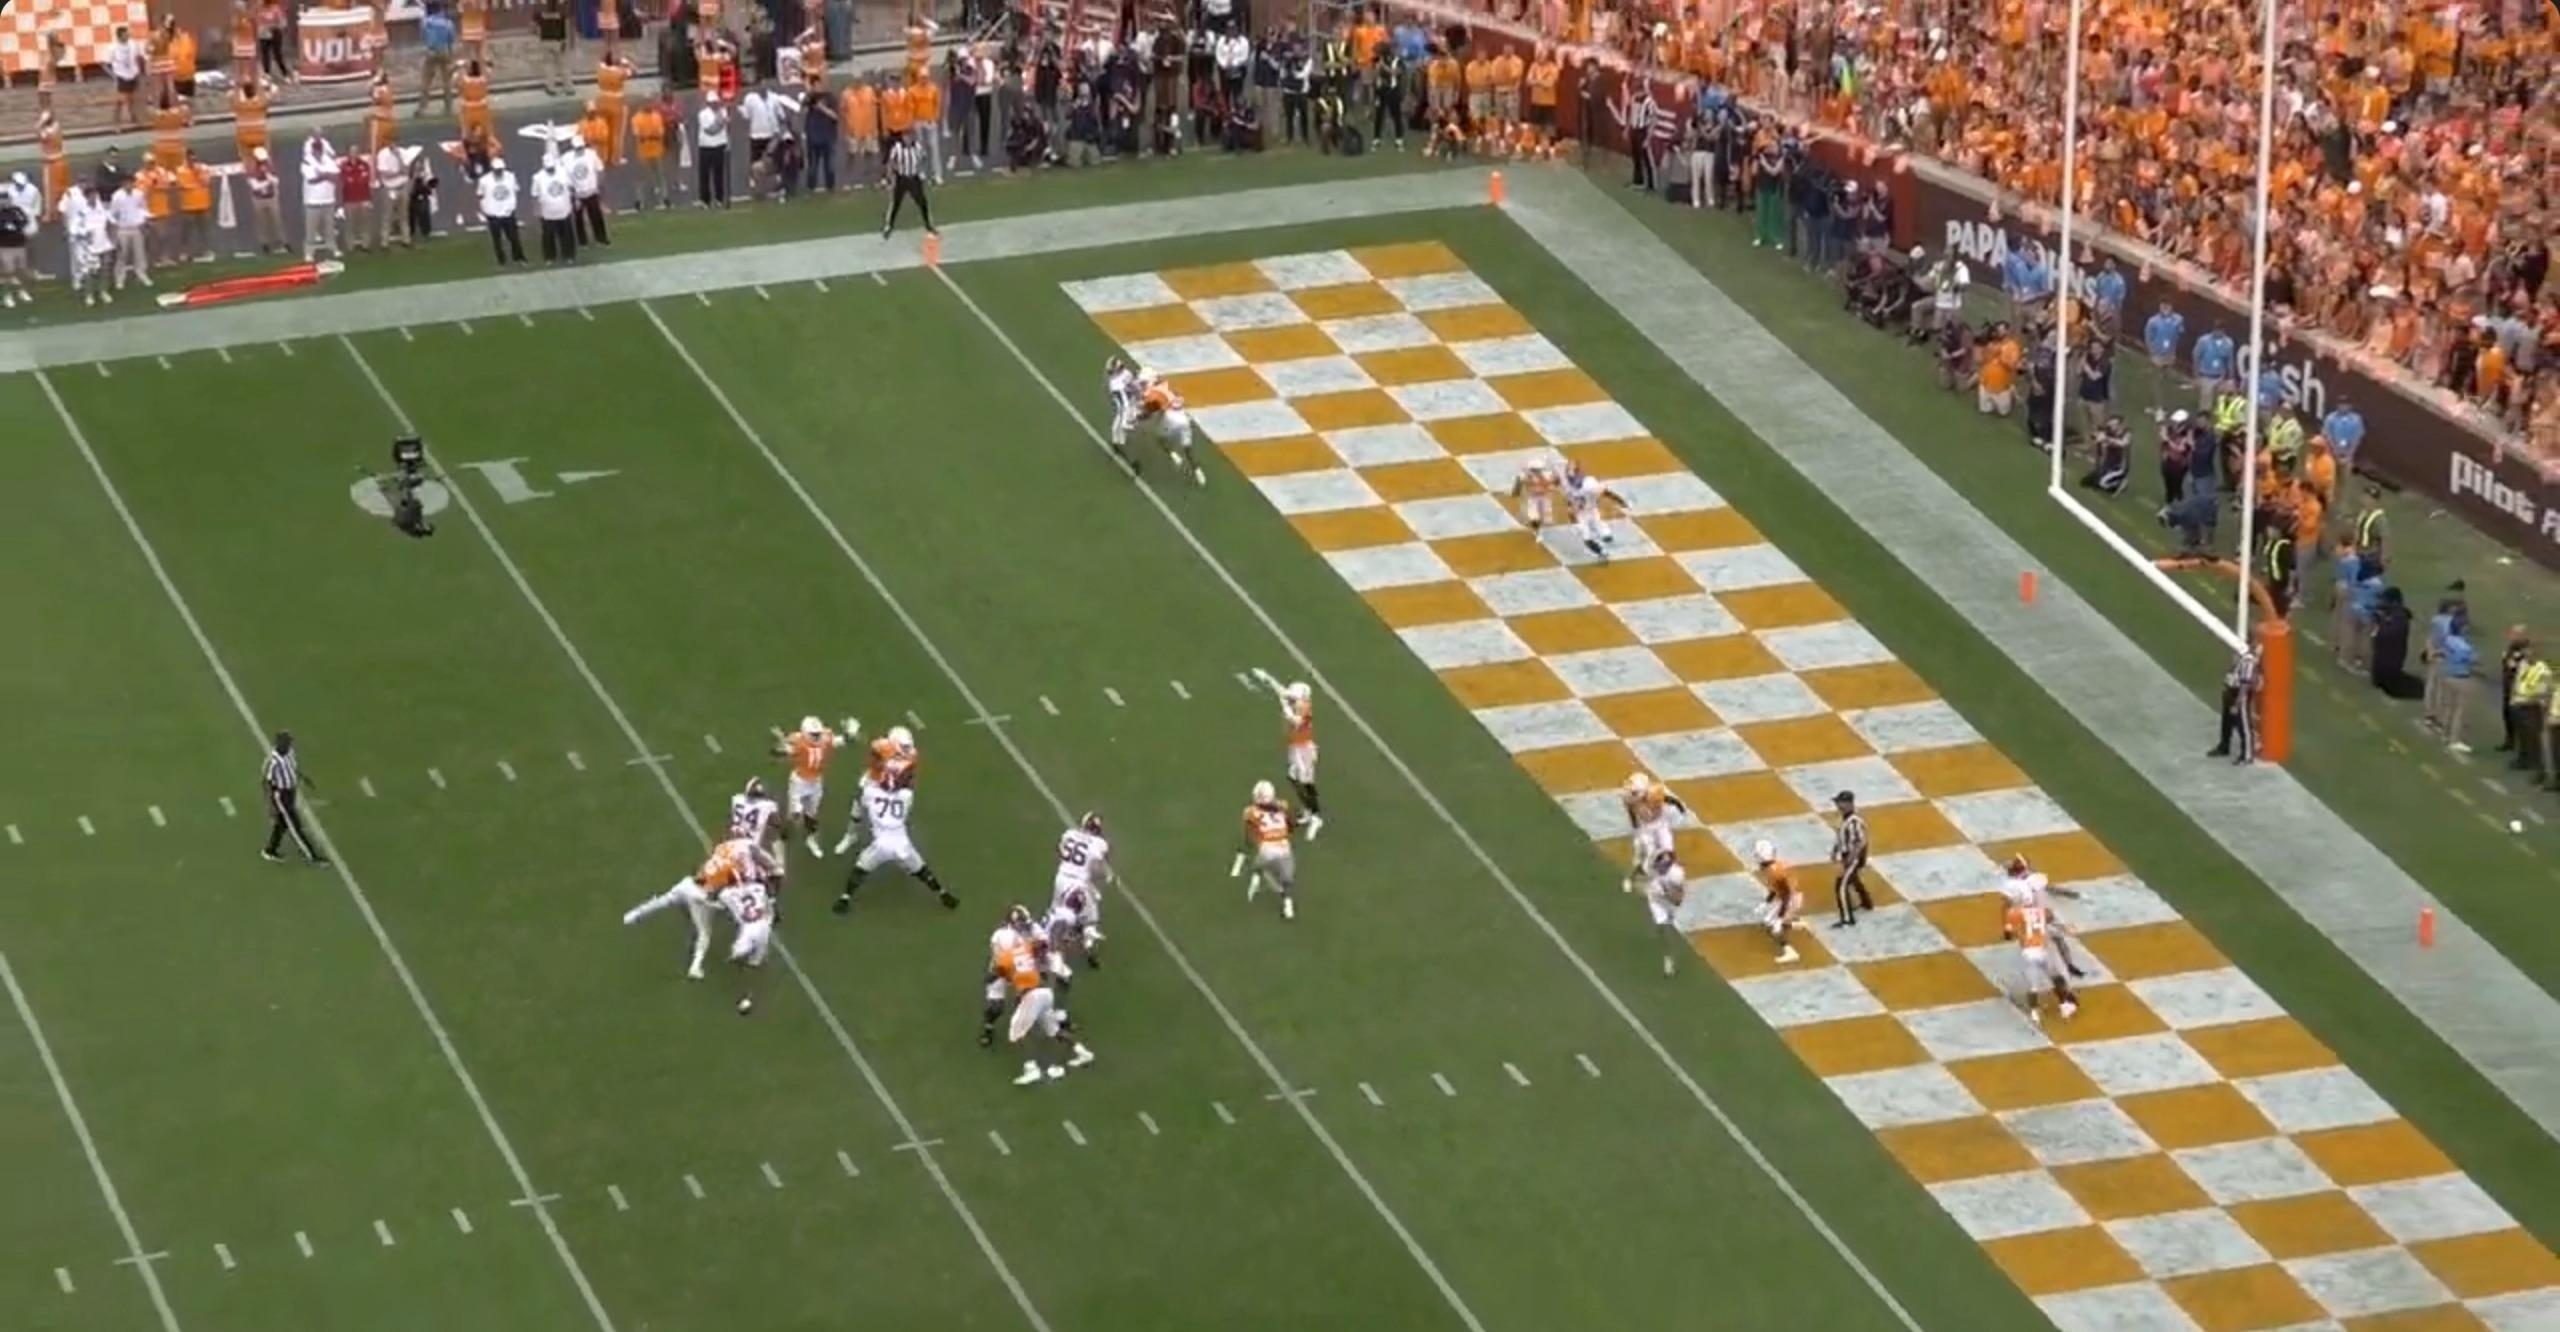defense: (616, 829, 750, 983), (987, 929, 1092, 1087), (772, 714, 852, 865), (2005, 883, 2079, 1027), (1231, 782, 1300, 936), (1266, 677, 1329, 843), (1141, 372, 1217, 499), (1617, 765, 1683, 900), (1741, 838, 1803, 970), (1503, 454, 1566, 562), (857, 718, 928, 797)
oline: (825, 773, 965, 922), (1057, 807, 1129, 971), (980, 904, 1058, 1054), (720, 775, 794, 924), (1036, 883, 1094, 990)
ref: (262, 726, 327, 872), (877, 125, 946, 247), (1817, 785, 1869, 926)
skill: (713, 865, 784, 1022), (1996, 856, 2059, 973), (1094, 347, 1151, 472), (1646, 850, 1702, 978), (1559, 464, 1619, 570)
